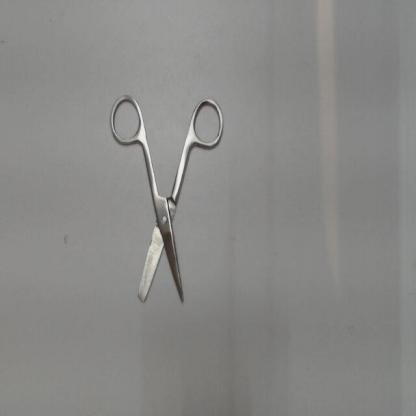Dressing Scissors: (103, 86, 229, 320)
